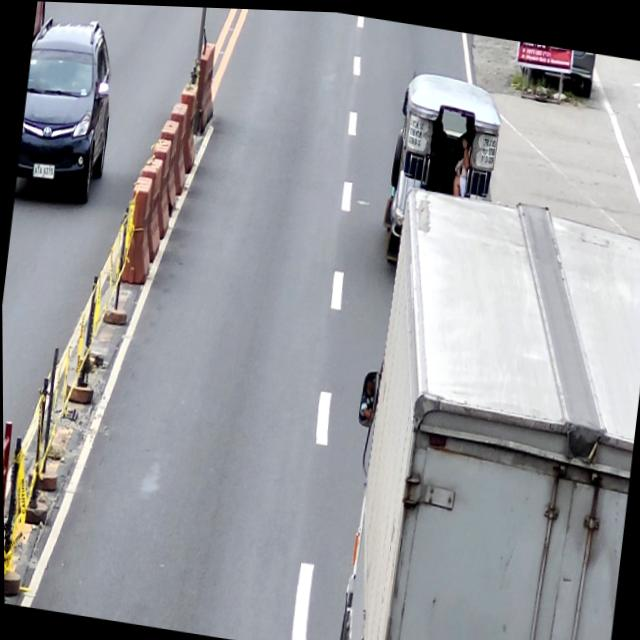Jeep: (379, 63, 506, 276)
Truck: (326, 175, 640, 640)
